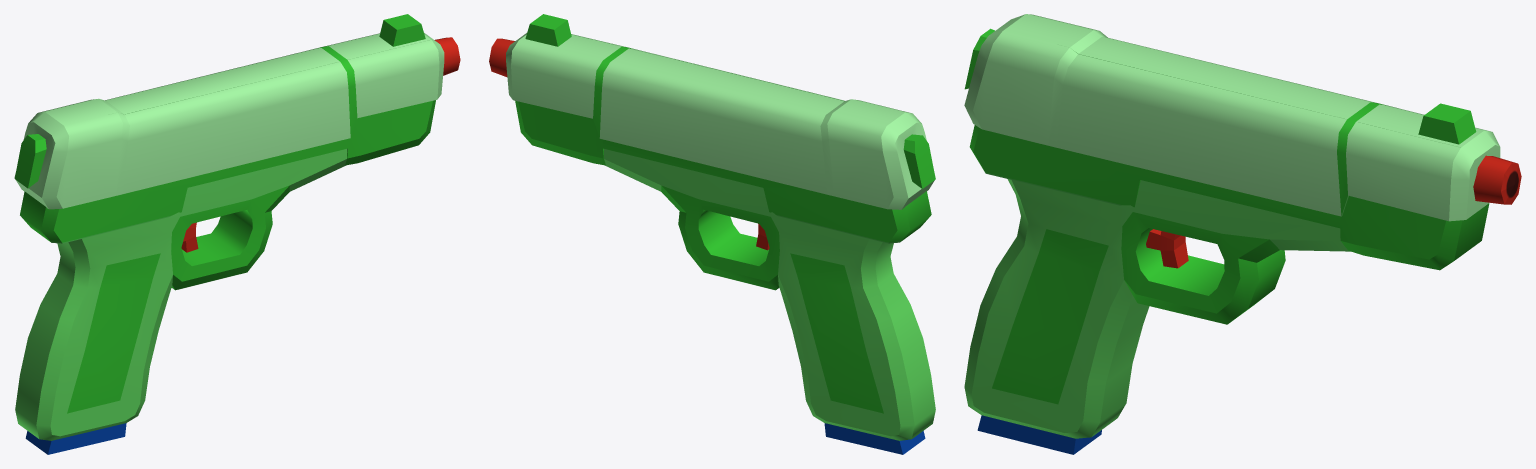
The model's file is pistol_cell_shaded_.fbx.
3 views of the same model, side by side, from view 1: azimuth 30°, elevation 25°; view 2: azimuth 150°, elevation 25°; view 3: azimuth 330°, elevation 25° (orthographic). The views are drawn at different scales.
Parts seen in each view (by area): view 1: pistol outline; view 2: pistol outline; view 3: pistol outline.
Boxes of the visible parts, left/top/right/bottom form: pistol outline: left=14, top=14, right=460, bottom=454; pistol outline: left=489, top=14, right=935, bottom=454; pistol outline: left=964, top=14, right=1521, bottom=454.
Size of the model in its own units: 0.636 by 0.471 by 0.0895.
